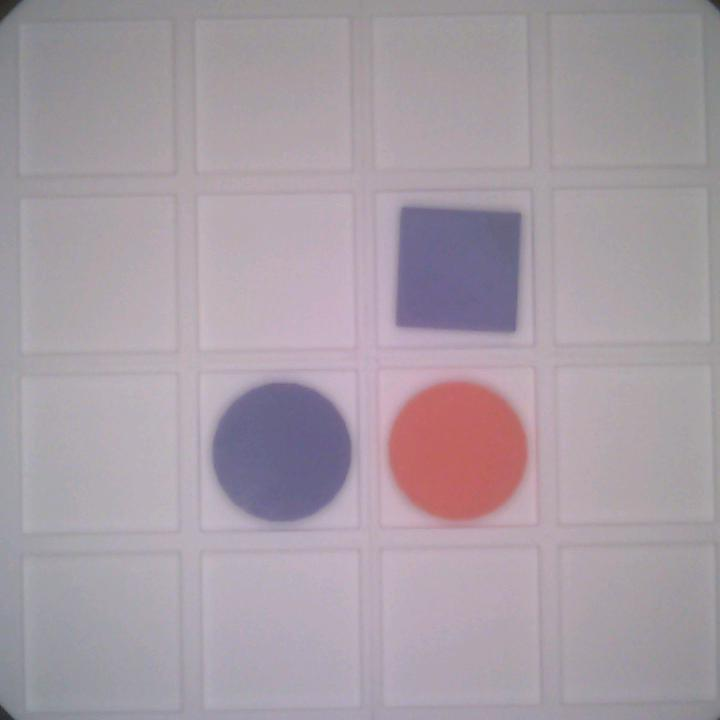Blue circle: (210, 375, 353, 524)
Blue square: (393, 192, 525, 335)
Orange circle: (388, 379, 525, 520)
